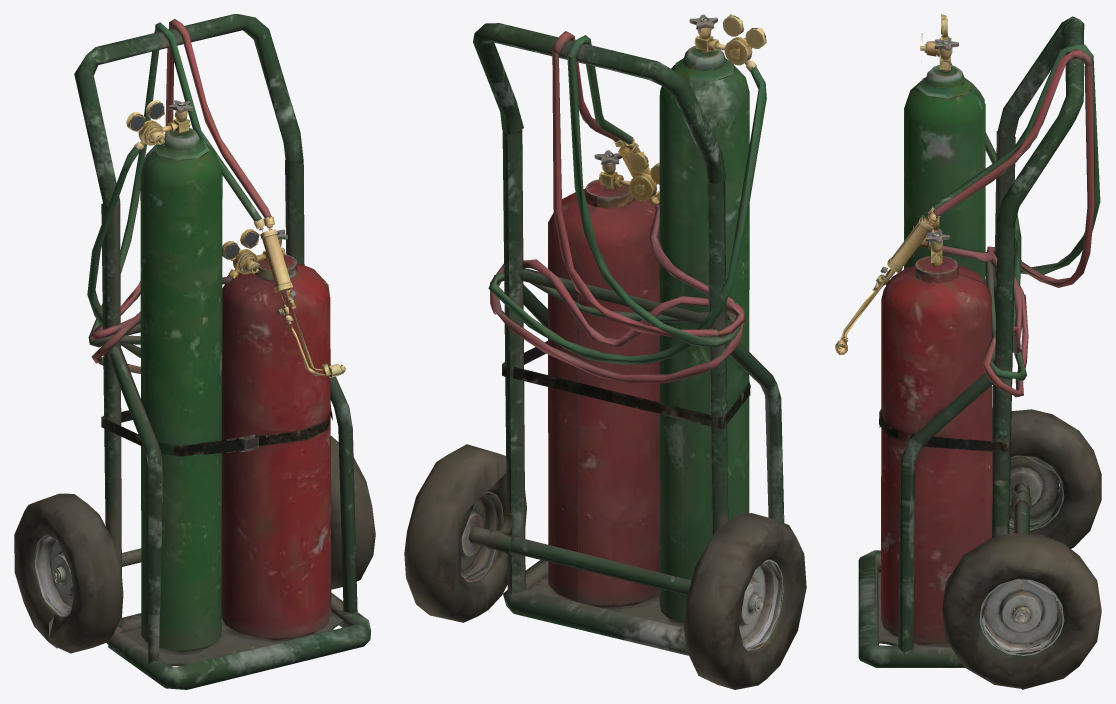
The model's file is portable_welding_cart.glb.
The picture shows the model from 3 angles, left to right: view 1: azimuth 30°, elevation 25°; view 2: azimuth 150°, elevation 25°; view 3: azimuth 270°, elevation 25°; orthographic projection. The views are drawn at different scales.
Parts seen in each view (by area): view 1: portable_welding_cart; view 2: portable_welding_cart; view 3: portable_welding_cart.
Boxes of the visible parts, x1,y1,x2,y2 form: portable_welding_cart: (14,14,375,689); portable_welding_cart: (404,14,806,689); portable_welding_cart: (835,14,1101,689).
Bounding box in the file's own units: 0.8375 × 1.56 × 0.6551.
Materials: 2 (2 with a texture image).
